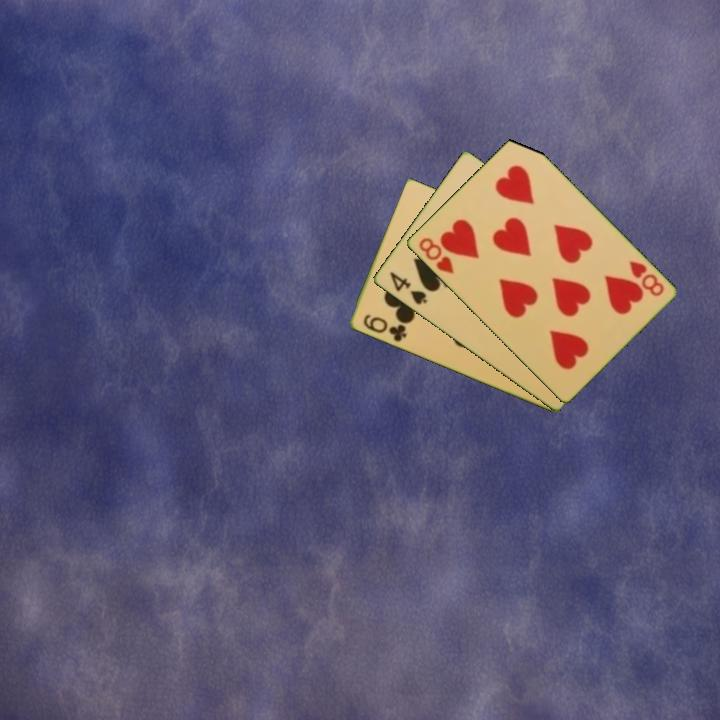4s: (386, 268, 430, 308)
6c: (359, 311, 409, 345)
8h: (415, 234, 456, 277), (625, 257, 666, 299)
